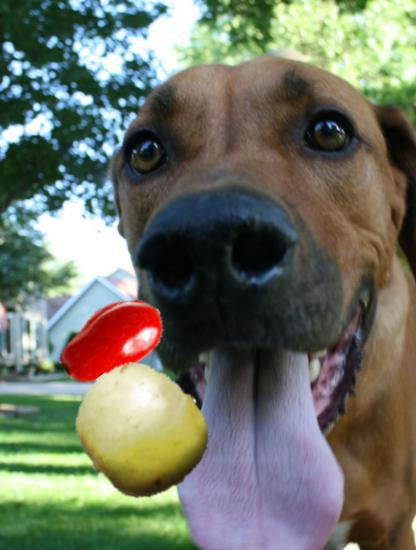Apple: (74, 362, 209, 497)
Tomato: (57, 285, 168, 396)
